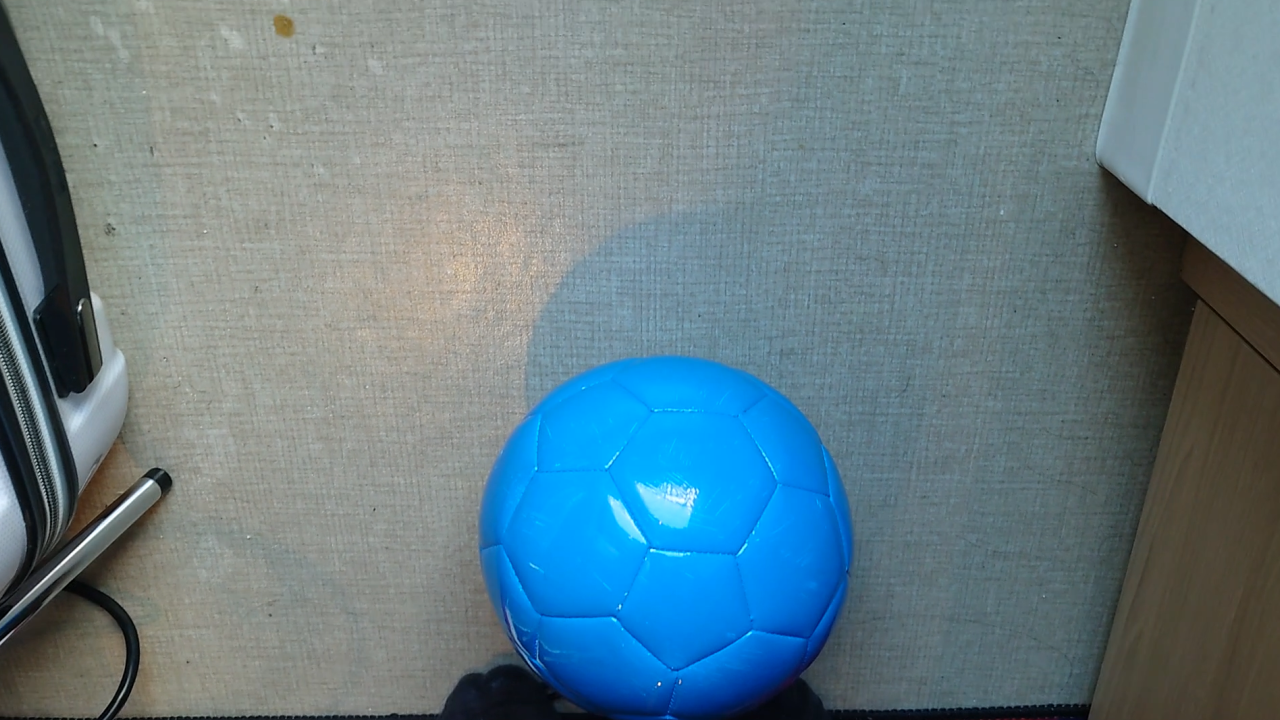BlueBall: (484, 361, 855, 720)
